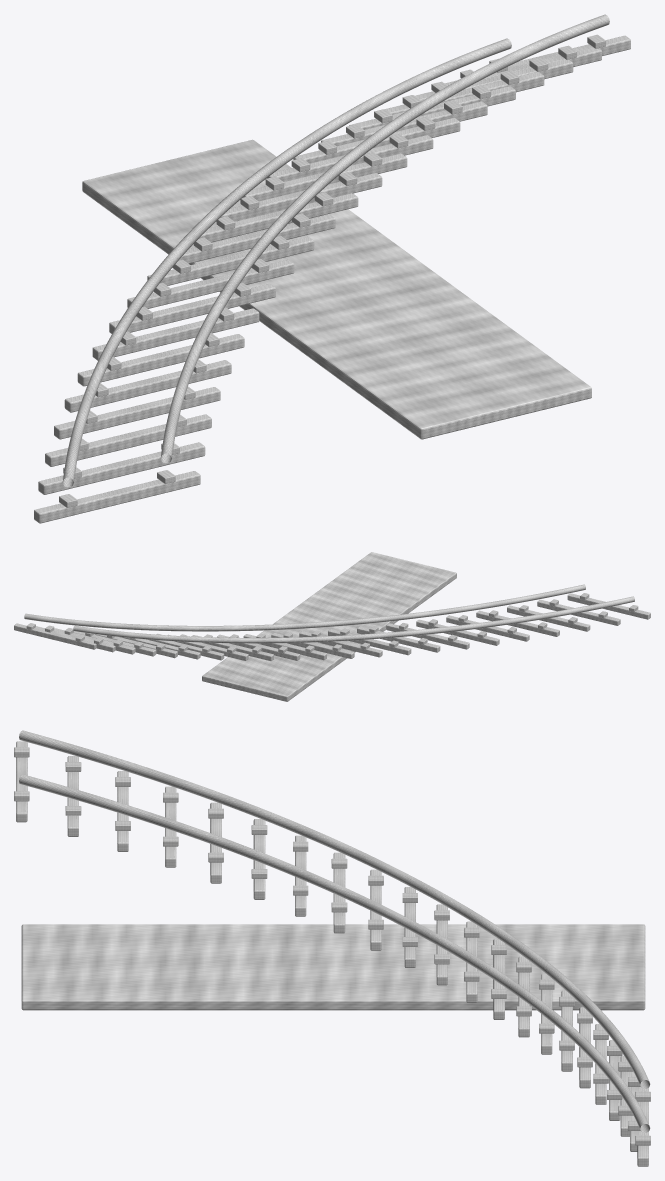
The model's file is railway_variant_b.glb.
3 renders of one model, top to bottom at view 1: azimuth 30°, elevation 25°; view 2: azimuth 150°, elevation 25°; view 3: azimuth 270°, elevation 25°, orthographic. The views are drawn at different scales.
Visible parts, largest first — view 1: Curve base, Left rail.001, Right rail.001, Rail sleeper.017, Rail sleeper.018, Rail sleeper.019, Rail sleeper.020, Rail sleeper.021, Rail sleeper.022, Rail sleeper.023, Rail sleeper.024, Rail sleeper.025 (+13 smaller); view 2: Curve base, Left rail.001, Right rail.001, Rail sleeper.038, Rail sleeper.017, Rail sleeper.018, Rail sleeper.019, Rail sleeper.020, Rail sleeper.021, Rail sleeper.022, Rail sleeper.023, Rail sleeper.024 (+13 smaller); view 3: Curve base, Left rail.001, Right rail.001, Rail sleeper.017, Rail sleeper.024, Rail sleeper.022, Rail sleeper.021, Rail sleeper.020, Rail sleeper.023, Rail sleeper.025, Rail sleeper.027, Rail sleeper.018.
Part boxes in pixels (bbox=[...]): Curve base: bbox=[82, 139, 591, 439]; Left rail.001: bbox=[62, 38, 511, 487]; Right rail.001: bbox=[160, 14, 609, 463]; Rail sleeper.017: bbox=[34, 471, 200, 523]; Rail sleeper.018: bbox=[38, 442, 205, 494]; Rail sleeper.019: bbox=[45, 414, 211, 466]; Rail sleeper.020: bbox=[54, 387, 220, 439]; Rail sleeper.021: bbox=[64, 360, 231, 412]; Rail sleeper.022: bbox=[77, 334, 244, 386]; Rail sleeper.023: bbox=[92, 308, 259, 360]; Rail sleeper.024: bbox=[109, 283, 275, 333]; Rail sleeper.025: bbox=[127, 259, 294, 308]; Curve base: bbox=[202, 552, 456, 701]; Left rail.001: bbox=[73, 596, 634, 643]; Right rail.001: bbox=[24, 584, 585, 631]; Rail sleeper.038: bbox=[14, 623, 96, 649]; Rail sleeper.017: bbox=[567, 593, 650, 619]; Rail sleeper.018: bbox=[537, 599, 620, 625]; Rail sleeper.019: bbox=[507, 605, 590, 631]; Rail sleeper.020: bbox=[476, 610, 559, 636]; Rail sleeper.021: bbox=[446, 615, 529, 641]; Rail sleeper.022: bbox=[416, 619, 499, 645]; Rail sleeper.023: bbox=[386, 623, 469, 649]; Rail sleeper.024: bbox=[357, 626, 440, 652]; Curve base: bbox=[21, 924, 645, 1010]; Left rail.001: bbox=[19, 730, 650, 1088]; Right rail.001: bbox=[19, 774, 650, 1132]; Rail sleeper.017: bbox=[16, 741, 27, 822]; Rail sleeper.024: bbox=[333, 852, 345, 933]; Rail sleeper.022: bbox=[253, 819, 265, 899]; Rail sleeper.021: bbox=[210, 802, 221, 883]; Rail sleeper.020: bbox=[165, 786, 176, 867]; Rail sleeper.023: bbox=[295, 835, 306, 916]; Rail sleeper.025: bbox=[370, 869, 381, 950]; Rail sleeper.027: bbox=[436, 904, 447, 985]; Rail sleeper.018: bbox=[67, 756, 78, 836].
Size of the model in its own units: 18.99 by 0.9551 by 12.26.
3 materials, 3 textured.
